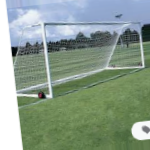goals: (11, 19, 147, 99)
